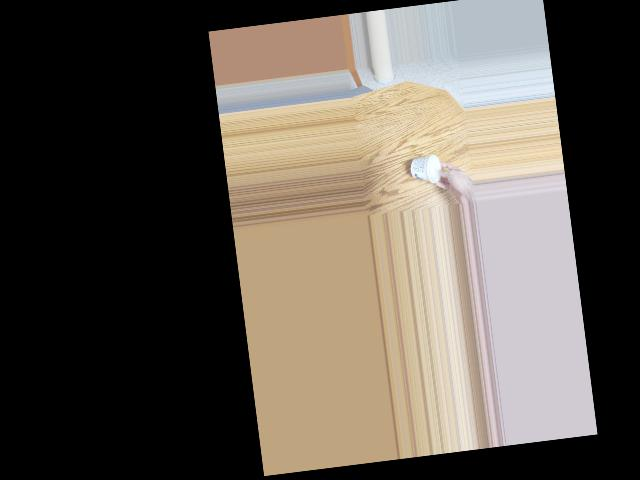cotage: (405, 148, 439, 182)
